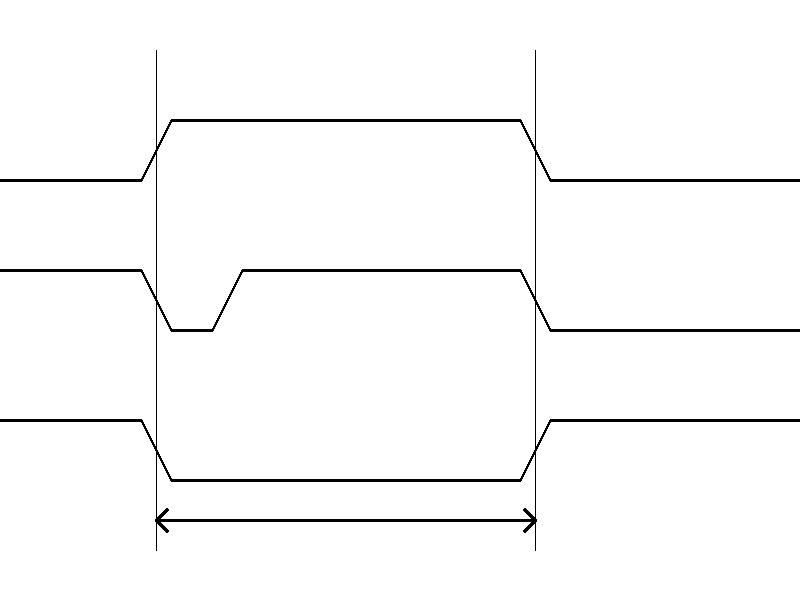double_arrow: (156, 505, 535, 535)
